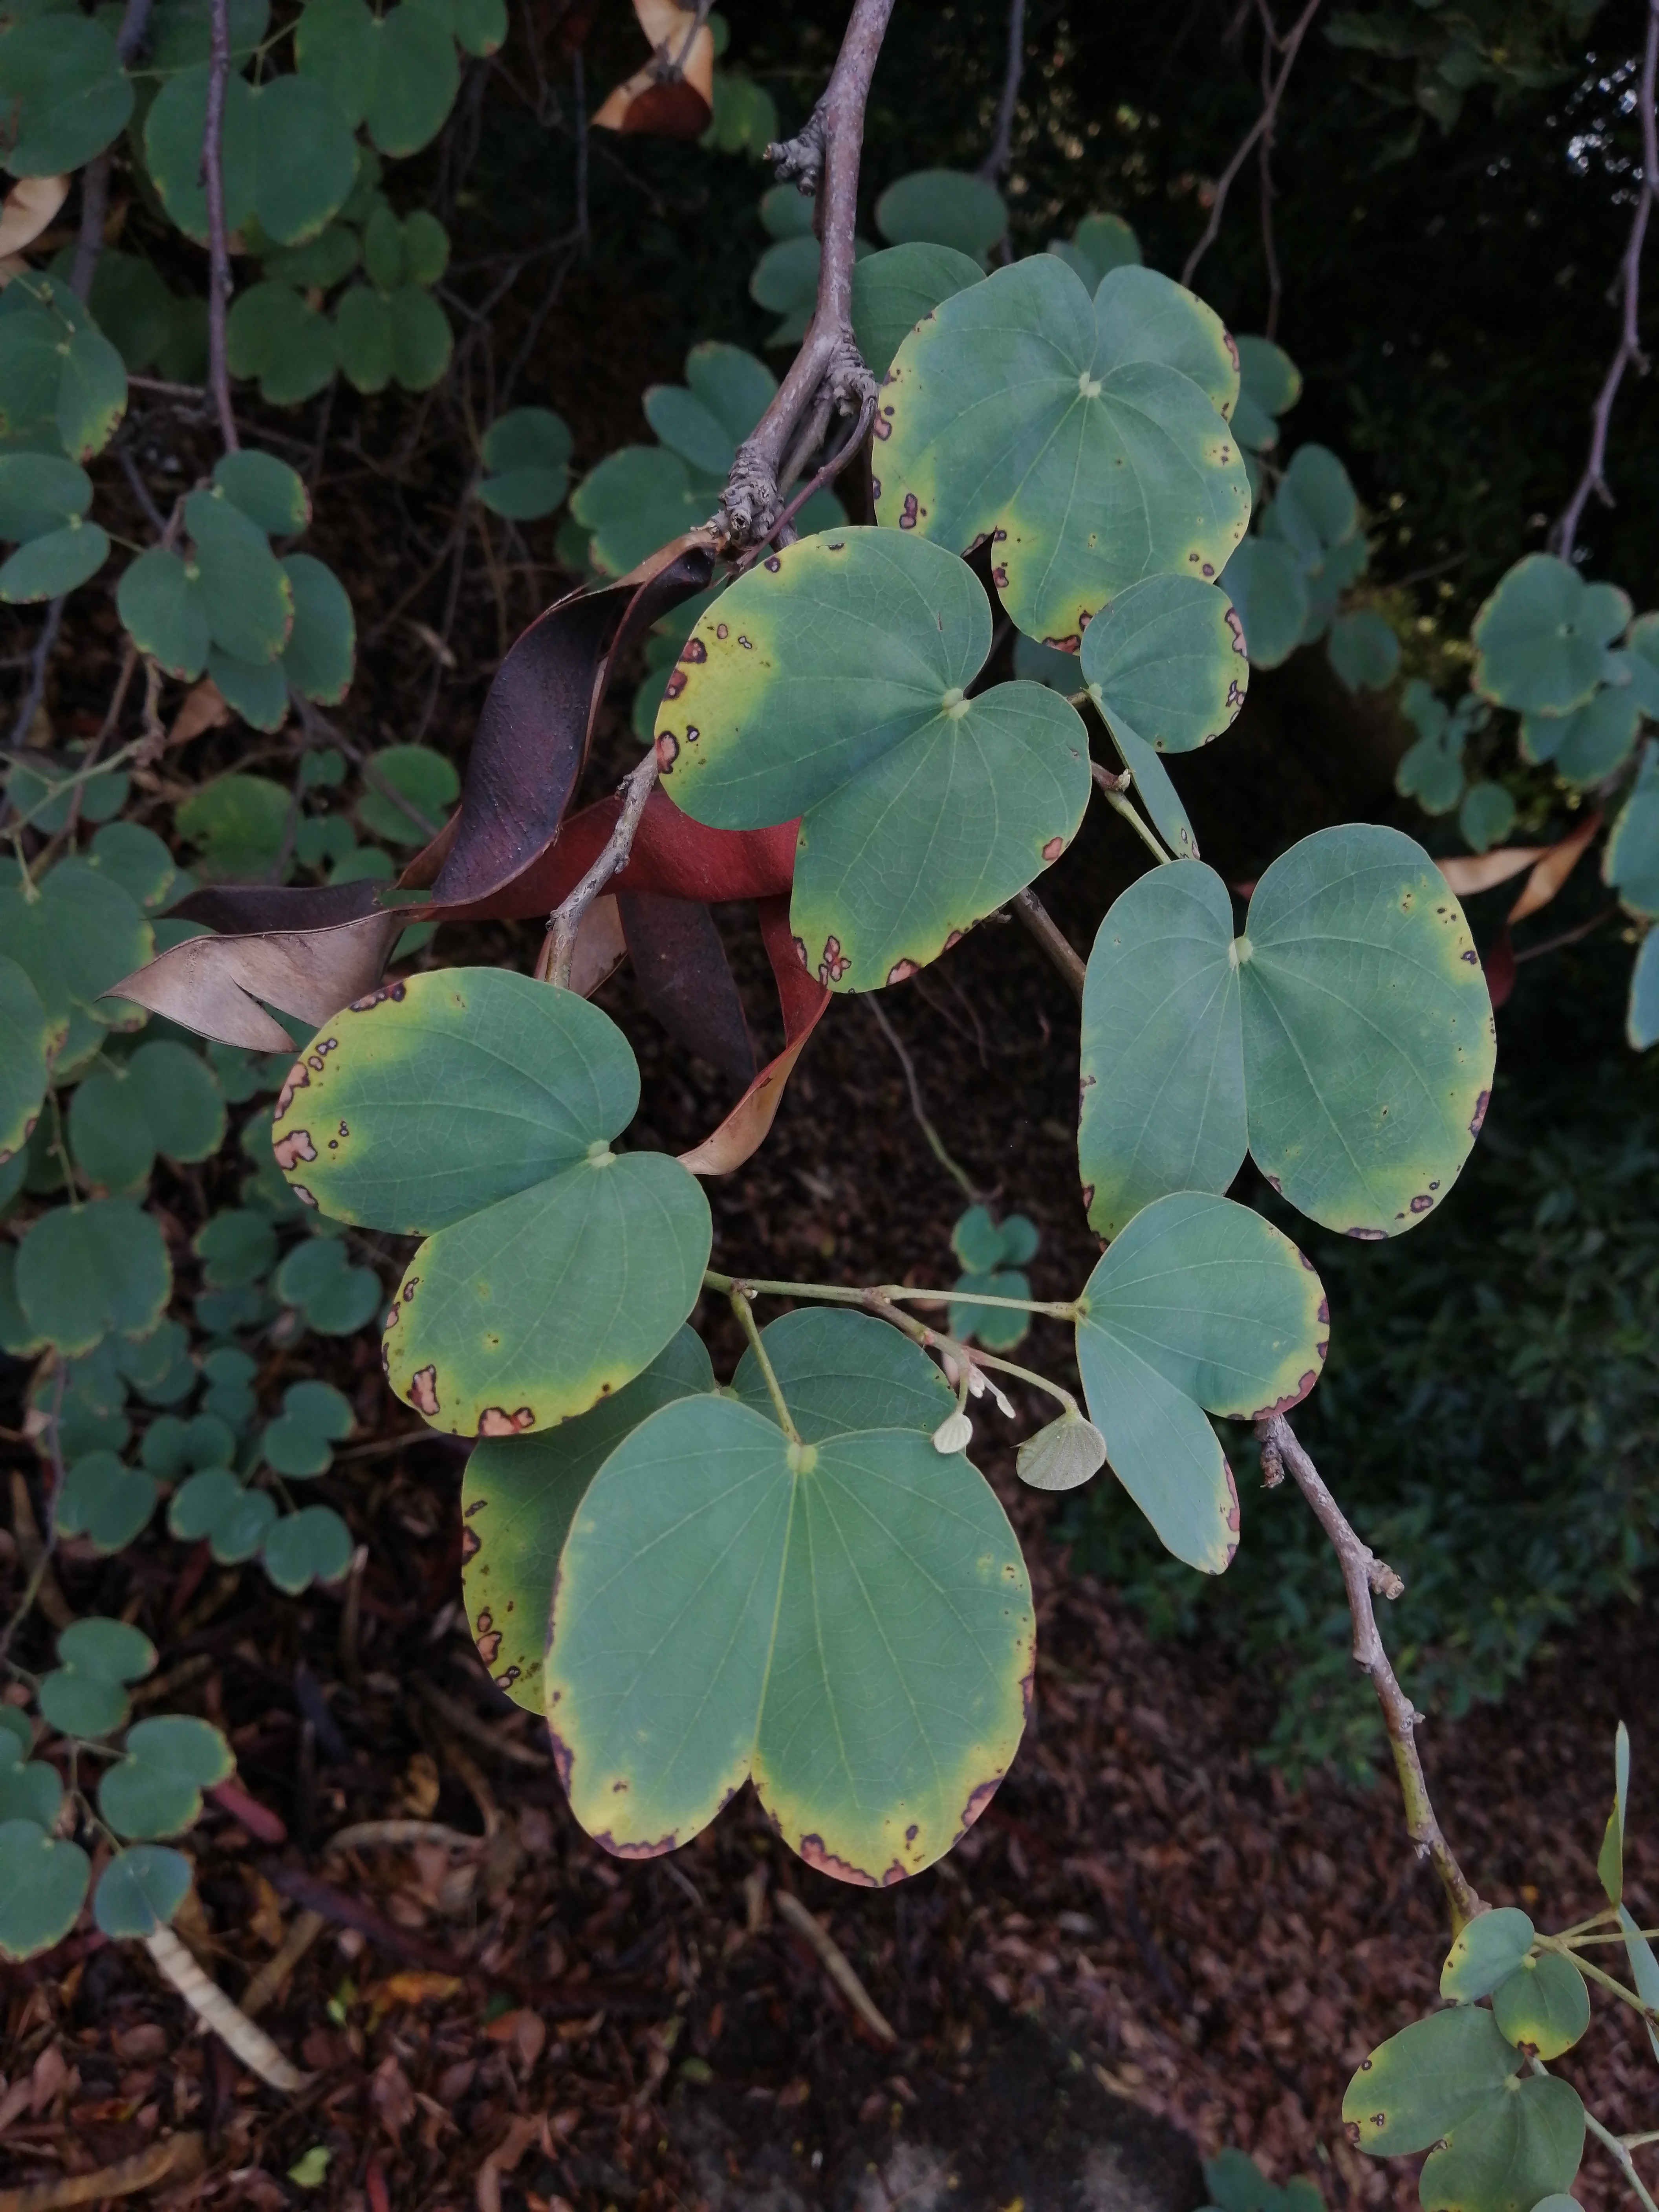nothealthy: (474, 1399, 1070, 1888), (260, 939, 714, 1444), (1040, 763, 1504, 1258), (636, 509, 1087, 998), (859, 260, 1293, 641), (1082, 1158, 1340, 1568), (1316, 2034, 1607, 2212), (1058, 563, 1279, 742), (1443, 1926, 1605, 2054)
